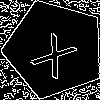X: (29, 24, 84, 80)
